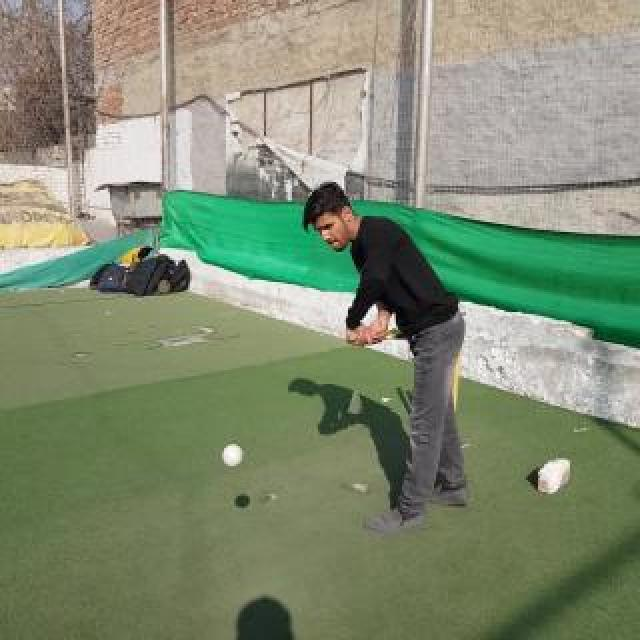ball: (222, 443, 244, 467)
